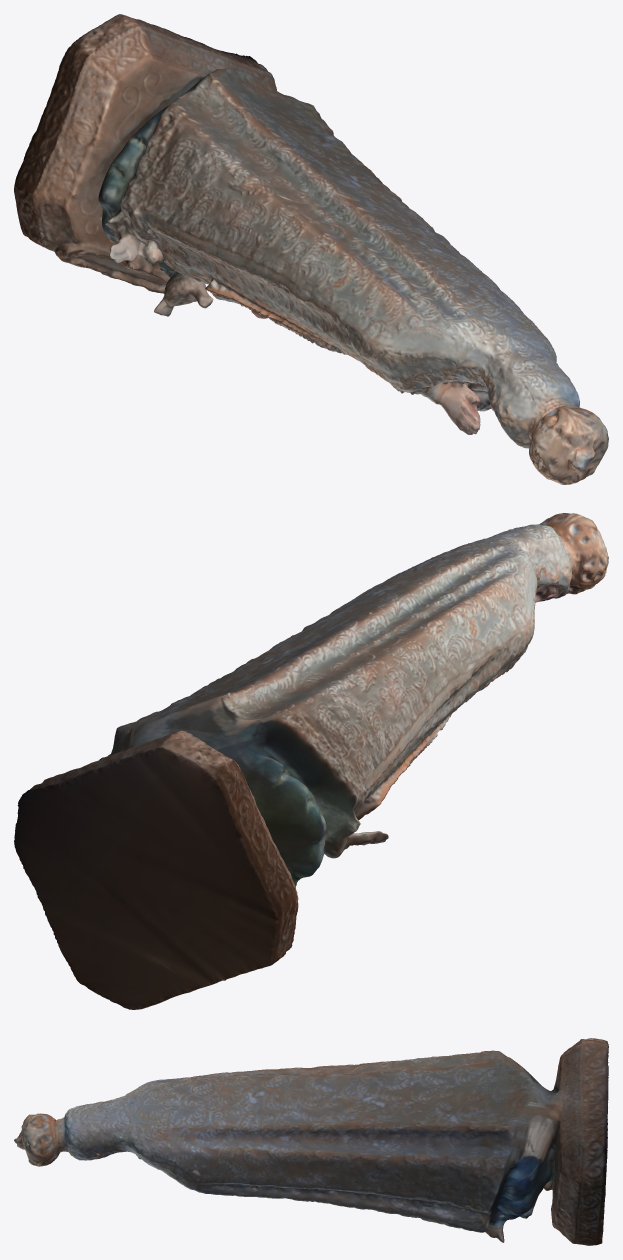
The model's file is Mary_Statue_Fatima.glb.
The picture shows the model from 3 angles, top to bottom: view 1: azimuth 30°, elevation 25°; view 2: azimuth 150°, elevation 25°; view 3: azimuth 270°, elevation 25°; orthographic projection. The views are drawn at different scales.
Visible parts, largest first — view 1: mainMeshNode; view 2: mainMeshNode; view 3: mainMeshNode.
Boxes of the visible parts, x1,y1,x2,y2 form: mainMeshNode: (14,14,608,484); mainMeshNode: (14,513,608,1009); mainMeshNode: (14,1038,608,1245).
Size of the model in its own units: 5.17 by 5.21 by 15.23.
Materials: 1 (1 with a texture image).
